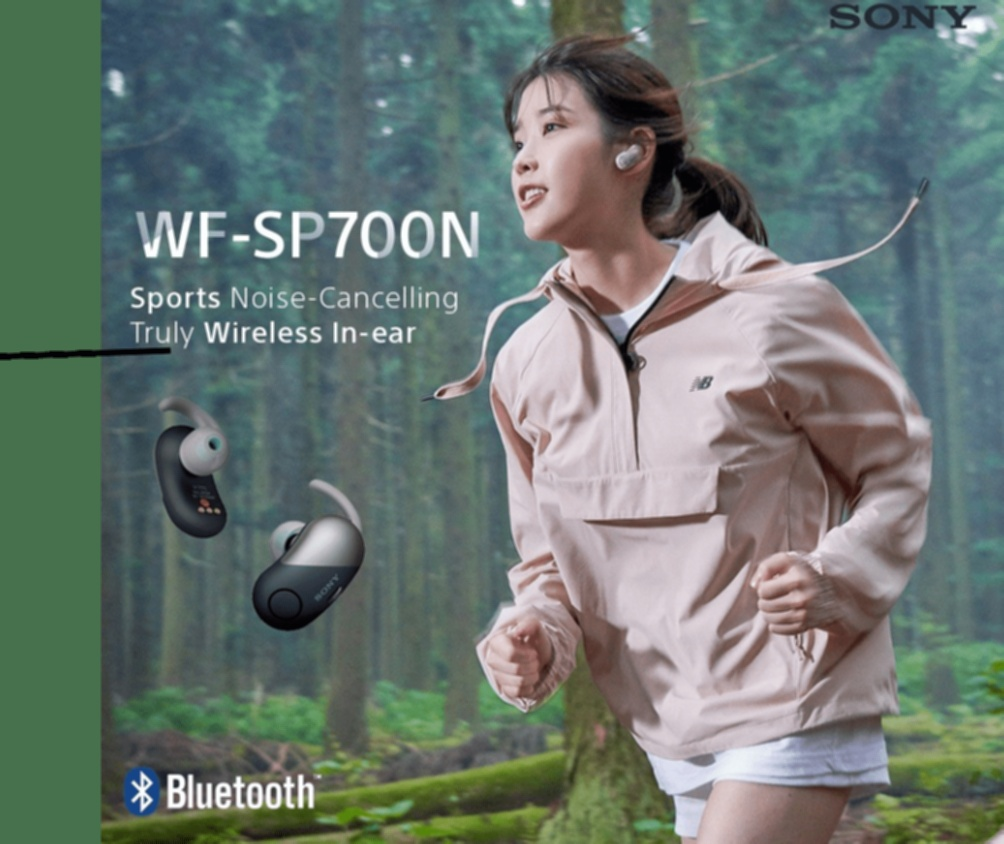earphone: (615, 126, 658, 177)
